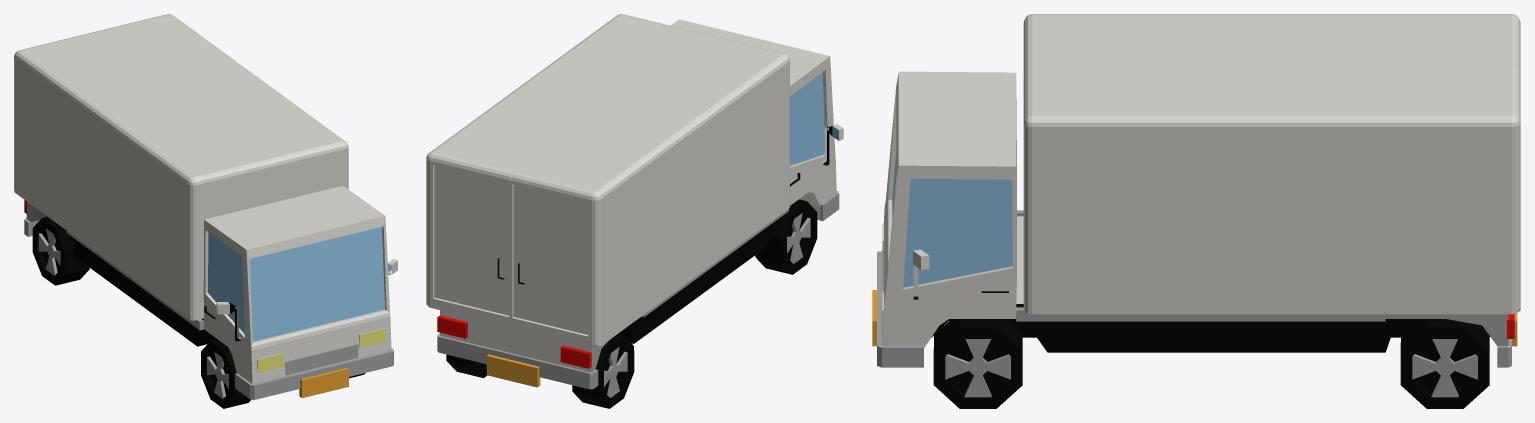
File: truck.glb
The picture shows the model from 3 angles, left to right: view 1: azimuth 30°, elevation 25°; view 2: azimuth 150°, elevation 25°; view 3: azimuth 270°, elevation 25°; orthographic projection. The views are drawn at different scales.
Parts seen in each view (by area): view 1: Car.001, Wheels; view 2: Car.001, Wheels; view 3: Car.001, Wheels.
Part boxes in pixels (bbox=[...]): Car.001: bbox=[14, 14, 397, 399]; Wheels: bbox=[32, 216, 365, 408]; Car.001: bbox=[426, 14, 843, 389]; Wheels: bbox=[446, 199, 817, 408]; Car.001: bbox=[872, 14, 1520, 367]; Wheels: bbox=[933, 319, 1489, 408].
Bounding box in the file's own units: 2.36 × 2.67 × 5.3.
